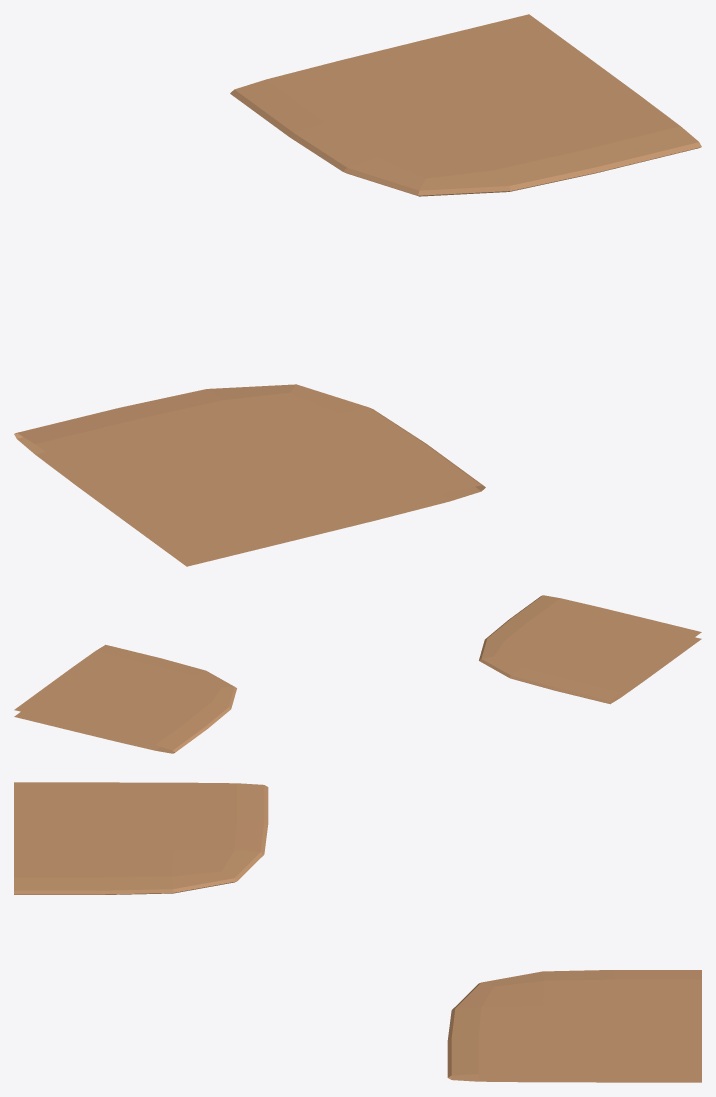
File: mid_watered_soil_tile_1_3.fbx
The picture shows the model from 3 angles, top to bottom: view 1: azimuth 30°, elevation 25°; view 2: azimuth 150°, elevation 25°; view 3: azimuth 270°, elevation 25°; orthographic projection. The views are drawn at different scales.
Visible parts, largest first — view 1: _Watered_Corner_1_3; view 2: _Watered_Corner_1_3; view 3: _Watered_Corner_1_3.
Boxes of the visible parts, x1,y1,x2,y2 form: _Watered_Corner_1_3: [14, 14, 701, 566]; _Watered_Corner_1_3: [14, 595, 701, 753]; _Watered_Corner_1_3: [14, 782, 701, 1082].
Bounding box in the file's own units: 1 × 1 × 0.0149.
